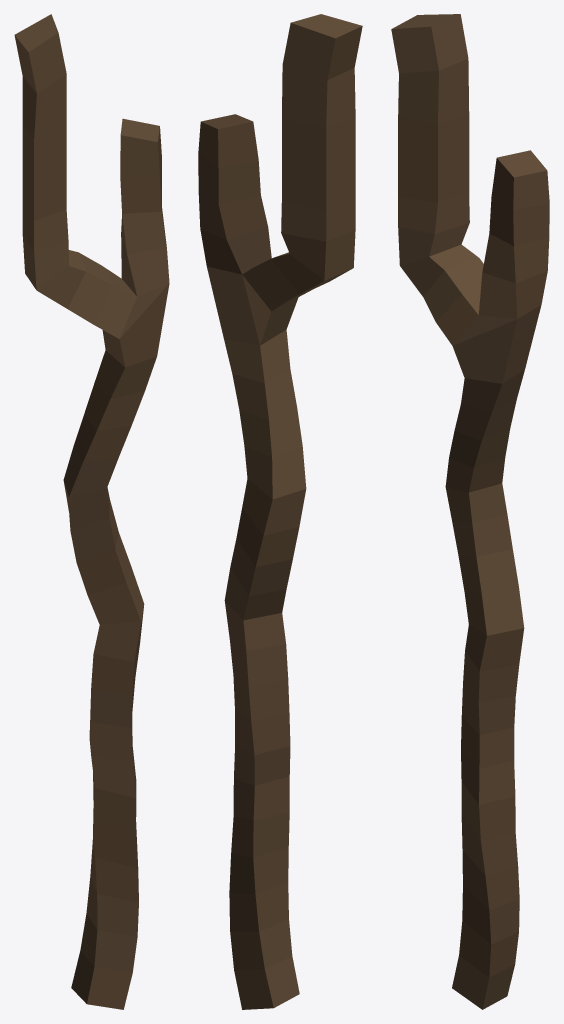
File: stick3.fbx
The picture shows the model from 3 angles, left to right: view 1: azimuth 30°, elevation 25°; view 2: azimuth 150°, elevation 25°; view 3: azimuth 330°, elevation 25°; orthographic projection. The views are drawn at different scales.
Parts seen in each view (by area): view 1: Cube.006; view 2: Cube.006; view 3: Cube.006.
Part boxes in pixels (left/top/right/bottom): Cube.006: left=14, top=14, right=169, bottom=1009; Cube.006: left=198, top=14, right=362, bottom=1009; Cube.006: left=391, top=14, right=549, bottom=1009.
Size of the model in its own units: 459 by 2939 by 230.
